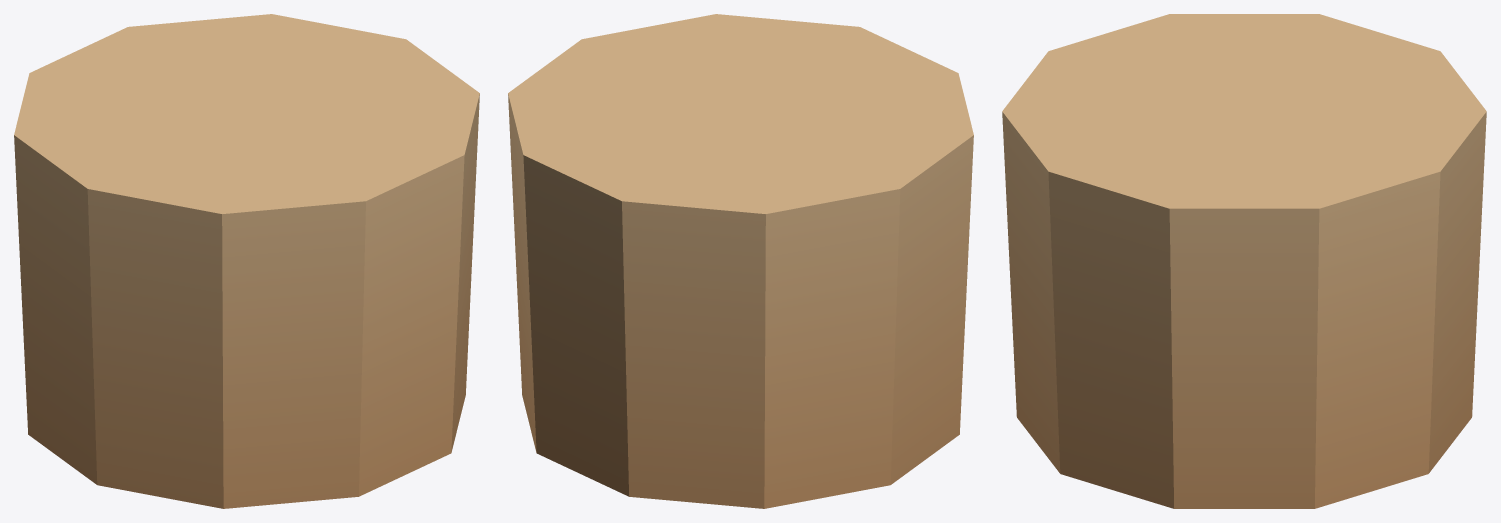
The model's file is leather_leggings_thigh.glb.
3 views of the same model, side by side, from view 1: azimuth 30°, elevation 25°; view 2: azimuth 150°, elevation 25°; view 3: azimuth 270°, elevation 25° (orthographic).
Visible parts, largest first — view 1: leather_leggings_thigh; view 2: leather_leggings_thigh; view 3: leather_leggings_thigh.
Part boxes in pixels (<box>): leather_leggings_thigh: <box>14,14,479,508</box>; leather_leggings_thigh: <box>508,14,973,508</box>; leather_leggings_thigh: <box>1002,14,1486,508</box>.
Size of the model in its own units: 0.3138 by 0.23 by 0.33.
1 material, 1 textured.
